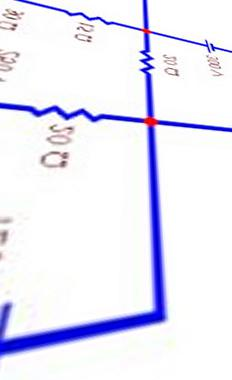resistor: (20, 89, 115, 121), (129, 37, 159, 87), (51, 9, 118, 27)
